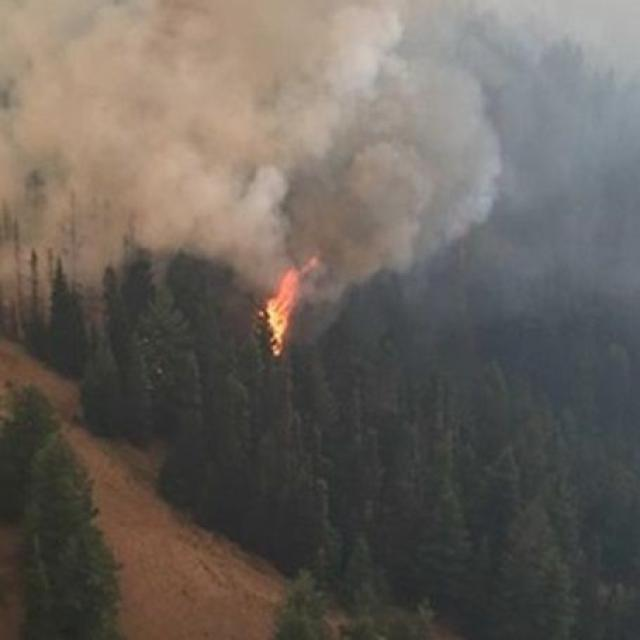Fire: (265, 265, 300, 357)
Smoke: (0, 0, 605, 268)
